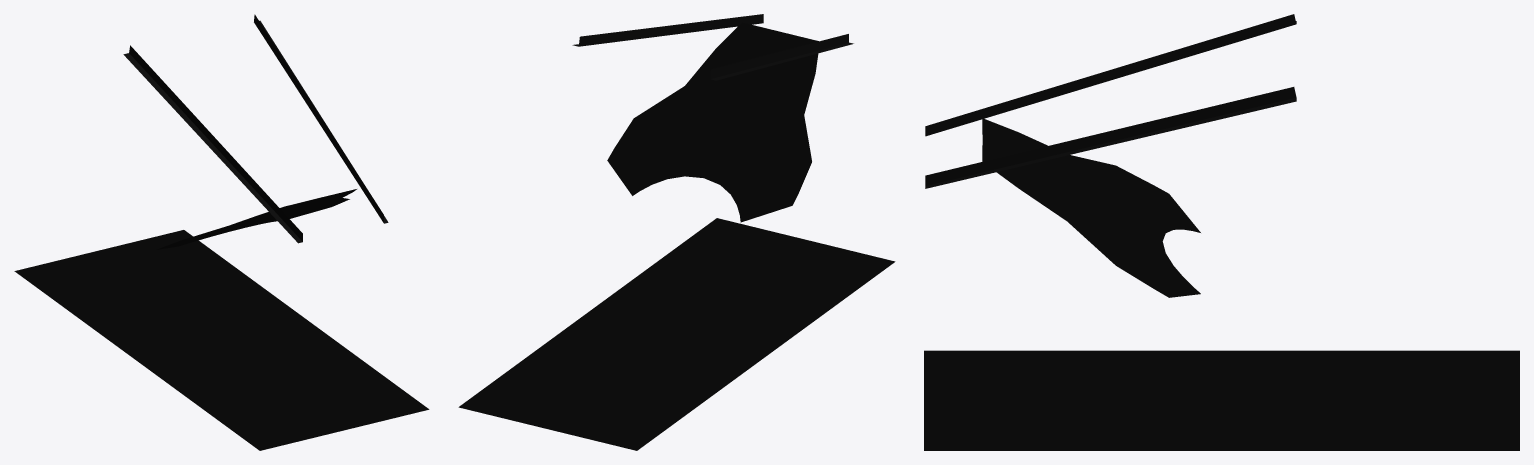
Rendered from cocksimp.obj.
The picture shows the model from 3 angles, left to right: view 1: azimuth 30°, elevation 25°; view 2: azimuth 150°, elevation 25°; view 3: azimuth 270°, elevation 25°; orthographic projection. The views are drawn at different scales.
Size of the model in its own units: 0.2104 by 0.3305 by 0.5086.
Materials: 3 (2 with a texture image).
